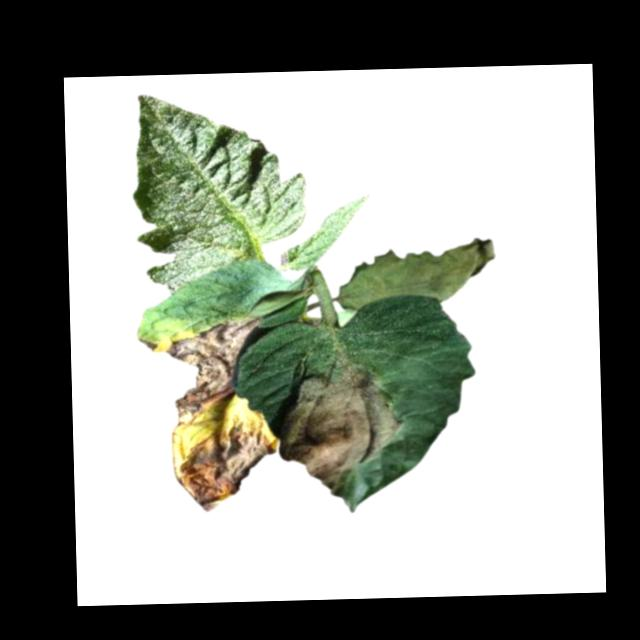Late_blight: (273, 354, 405, 498), (336, 235, 497, 313), (168, 315, 264, 427), (170, 425, 279, 515), (136, 336, 158, 353)
healthy: (127, 90, 308, 295), (280, 191, 372, 273)
